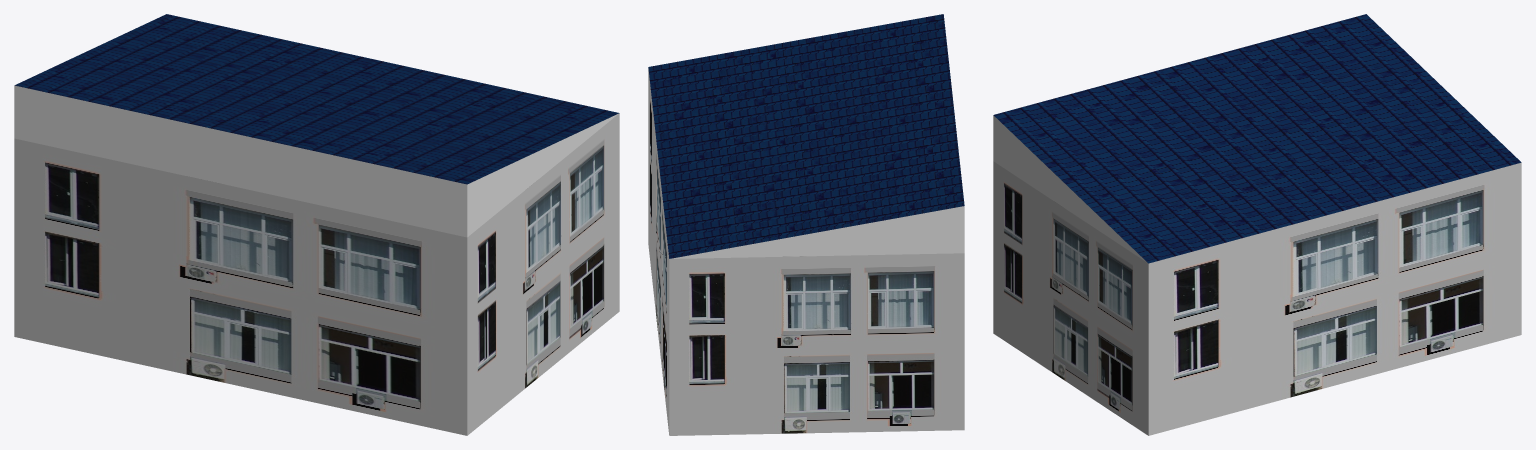
The picture shows the model from 3 angles, left to right: view 1: azimuth 30°, elevation 25°; view 2: azimuth 150°, elevation 25°; view 3: azimuth 270°, elevation 25°; orthographic projection. The views are drawn at different scales.
Visible parts, largest first — view 1: CityEngineMaterial_9_m, CityEngineMaterial_6_m, CityEngineMaterial_3_m; view 2: CityEngineMaterial_6_m, CityEngineMaterial_9_m, CityEngineMaterial_3_m; view 3: CityEngineMaterial_9_m, CityEngineMaterial_6_m, CityEngineMaterial_3_m.
Part boxes in pixels (box(x1,y1,x2,y2)): CityEngineMaterial_9_m: box(14, 113, 619, 435); CityEngineMaterial_6_m: box(14, 14, 619, 184); CityEngineMaterial_3_m: box(14, 85, 618, 237); CityEngineMaterial_6_m: box(648, 14, 964, 258); CityEngineMaterial_9_m: box(648, 69, 964, 435); CityEngineMaterial_3_m: box(670, 206, 964, 258); CityEngineMaterial_9_m: box(993, 161, 1521, 435); CityEngineMaterial_6_m: box(993, 14, 1521, 263); CityEngineMaterial_3_m: box(993, 115, 1147, 262).
Size of the model in its own units: 24.19 by 12.11 by 26.55.
